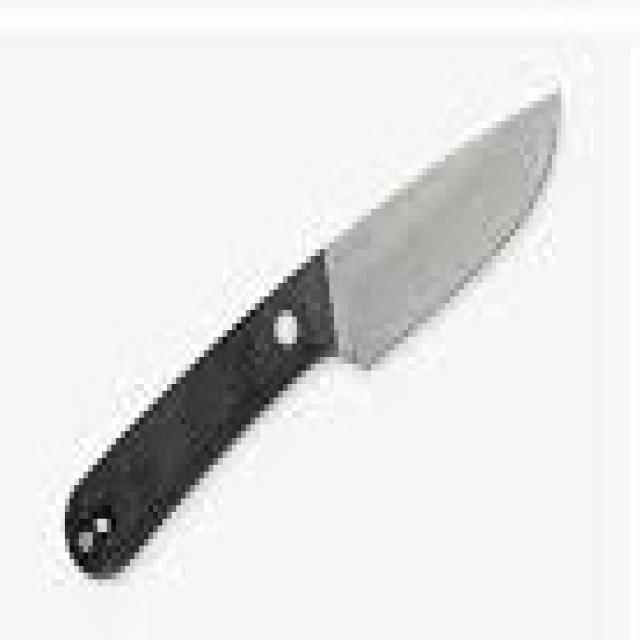knife: (56, 73, 563, 602)
